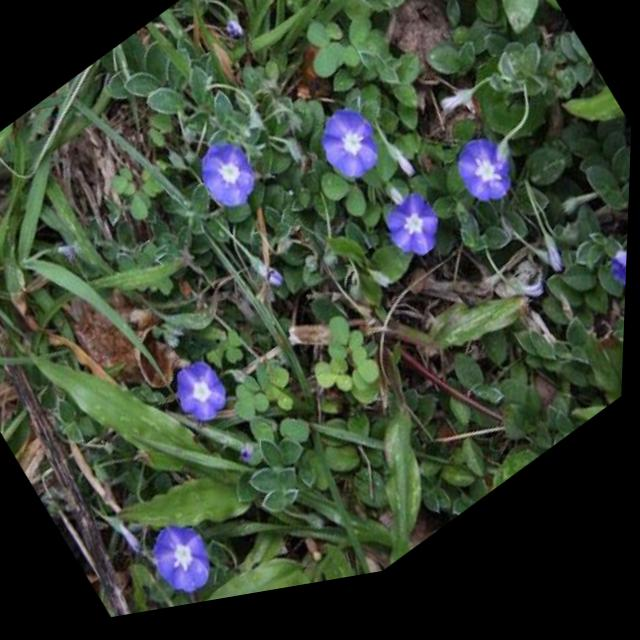Flower: (363, 182, 460, 304), (156, 342, 247, 454), (440, 131, 530, 242), (305, 99, 394, 209), (144, 511, 233, 618), (189, 130, 271, 230), (592, 253, 630, 337)
